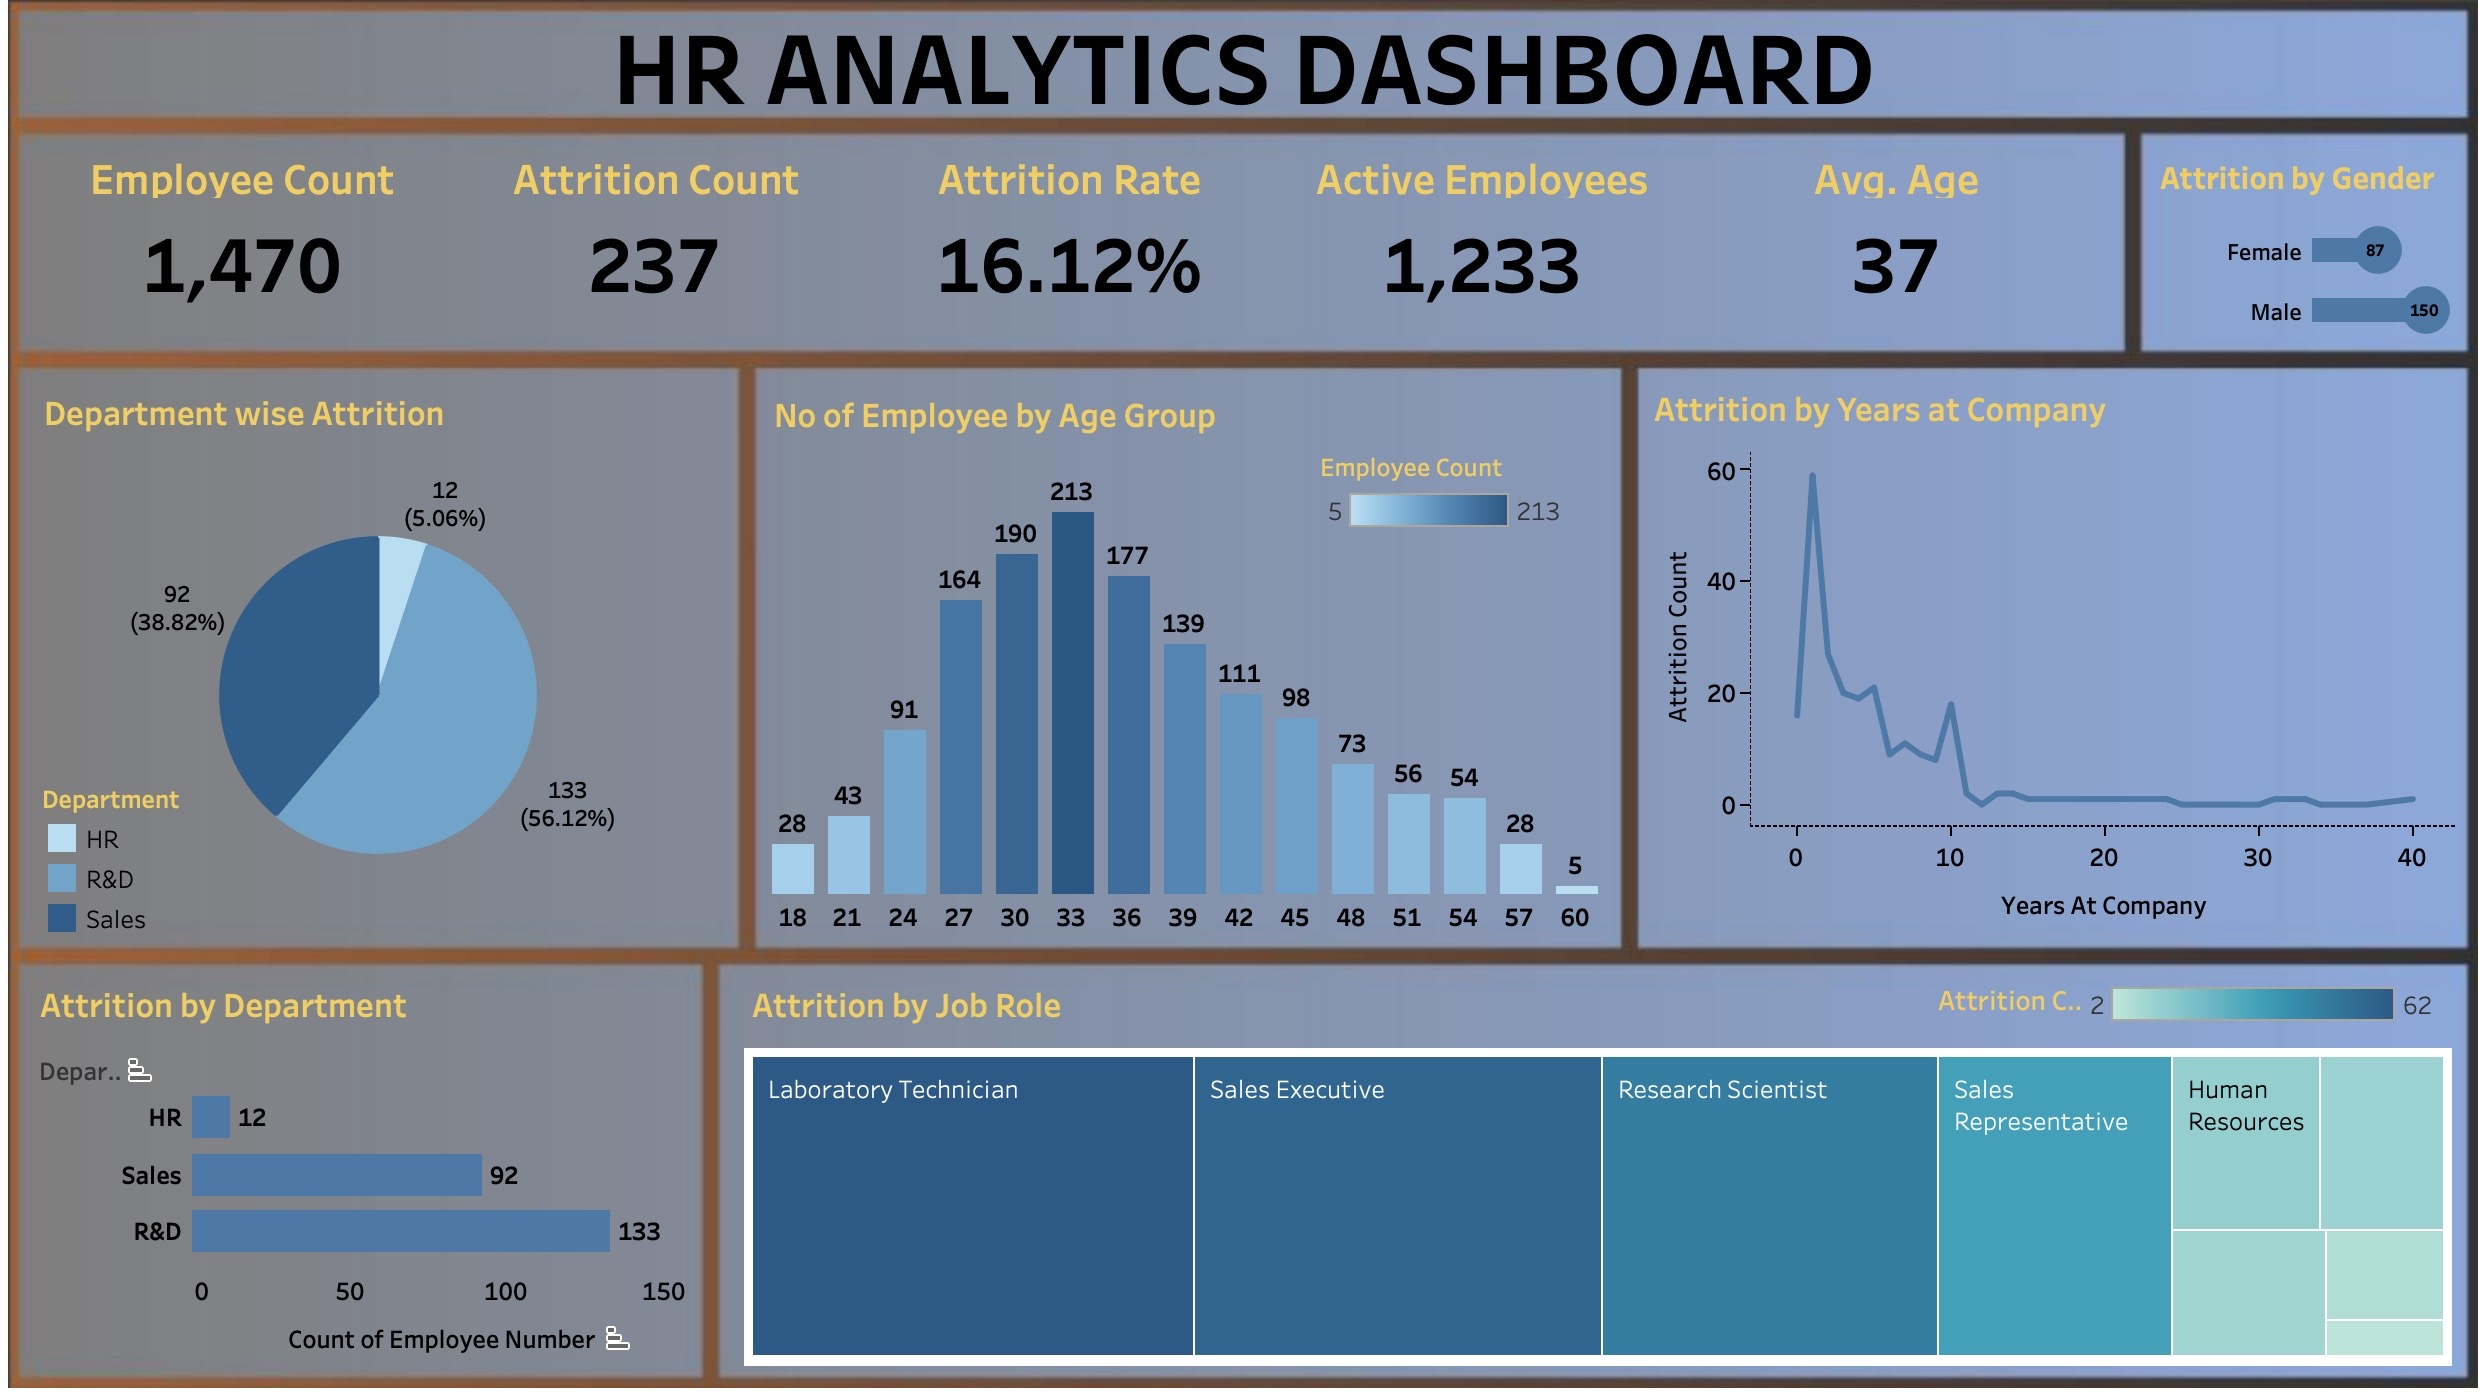

What the dashboard file says about the page in this screenshot:
{"tool":"tableau","page":{"name":"HR ANALYTICS DASHBOARD","canvas":[1000,1000],"units":"permille","ordinal":0},"visuals":[{"type":"image","param":"Image/HR background.pptx (1).jpg","box":[6.4,9.7,987.3,980.7]},{"type":"text","box":[20.7,93,959.5,53.1]},{"type":"worksheet","title":"Attrition by Gender","mark":"Automatic","rows":["Gender"],"cols":["Calculation_0071721202110464","Calculation_0071721202110464"],"box":[861,170.3,120.7,115.9]},{"type":"worksheet","title":"KPI","mark":"Automatic","box":[20.7,176.3,821.3,101.5]},{"type":"worksheet","title":"Attrition by Years at Company","mark":"Line","rows":["Calculation_0071721202110464"],"cols":["Years At Company"],"box":[660.1,309.2,322.5,337]},{"type":"worksheet","title":"Department wise Attrition","mark":"Pie","box":[20.7,311.6,271.6,333.3]},{"type":"worksheet","title":"No of Employee by Age Group","mark":"Automatic","rows":["Employee Count"],"cols":["Age (bin) 2"],"box":[310.6,312.8,332.8,333.3]},{"type":"legend","title":"No of Employee by Age Group","param":"[federated.1ieh17818mr3431577d791re5ynh].[sum:Employee Count:qk]","box":[530.6,352.7,99.3,64]},{"type":"legend","title":"Department wise Attrition","param":"[federated.1ieh17818mr3431577d791re5ynh].[none:Department:nk]","box":[23,553.1,92.1,94.2]},{"type":"worksheet","title":"Attrition by Department","mark":"Automatic","rows":["Department"],"cols":["Employee Number"],"box":[19.1,669.1,262.1,239.1]},{"type":"worksheet","title":"Attrition by Job Role","mark":"Automatic","box":[301.8,669.1,678.3,236.7]},{"type":"legend","title":"Attrition by Job Role","param":"[federated.1ieh17818mr3431577d791re5ynh].[sum:Calculation_0071721202110464:qk]","box":[776,672.7,200.2,37.4]}]}

Visuals, with their boxes on the dashboard's canvas, which has no fixed pixel size, in thousandths of its width and height (x1, y1, x2, y2). These are canvas units, not pixel positions in the 2486x1398 screenshot, which may show the page scaled, cropped or inside an application window:
image: {"x1": 6, "y1": 10, "x2": 994, "y2": 990}
text: {"x1": 21, "y1": 93, "x2": 980, "y2": 146}
"Attrition by Gender" worksheet: {"x1": 861, "y1": 170, "x2": 982, "y2": 286}
"KPI" worksheet: {"x1": 21, "y1": 176, "x2": 842, "y2": 278}
"Attrition by Years at Company" worksheet (Line marks): {"x1": 660, "y1": 309, "x2": 983, "y2": 646}
"Department wise Attrition" worksheet (Pie marks): {"x1": 21, "y1": 312, "x2": 292, "y2": 645}
"No of Employee by Age Group" worksheet: {"x1": 311, "y1": 313, "x2": 643, "y2": 646}
"No of Employee by Age Group" legend: {"x1": 531, "y1": 353, "x2": 630, "y2": 417}
"Department wise Attrition" legend: {"x1": 23, "y1": 553, "x2": 115, "y2": 647}
"Attrition by Department" worksheet: {"x1": 19, "y1": 669, "x2": 281, "y2": 908}
"Attrition by Job Role" worksheet: {"x1": 302, "y1": 669, "x2": 980, "y2": 906}
"Attrition by Job Role" legend: {"x1": 776, "y1": 673, "x2": 976, "y2": 710}
